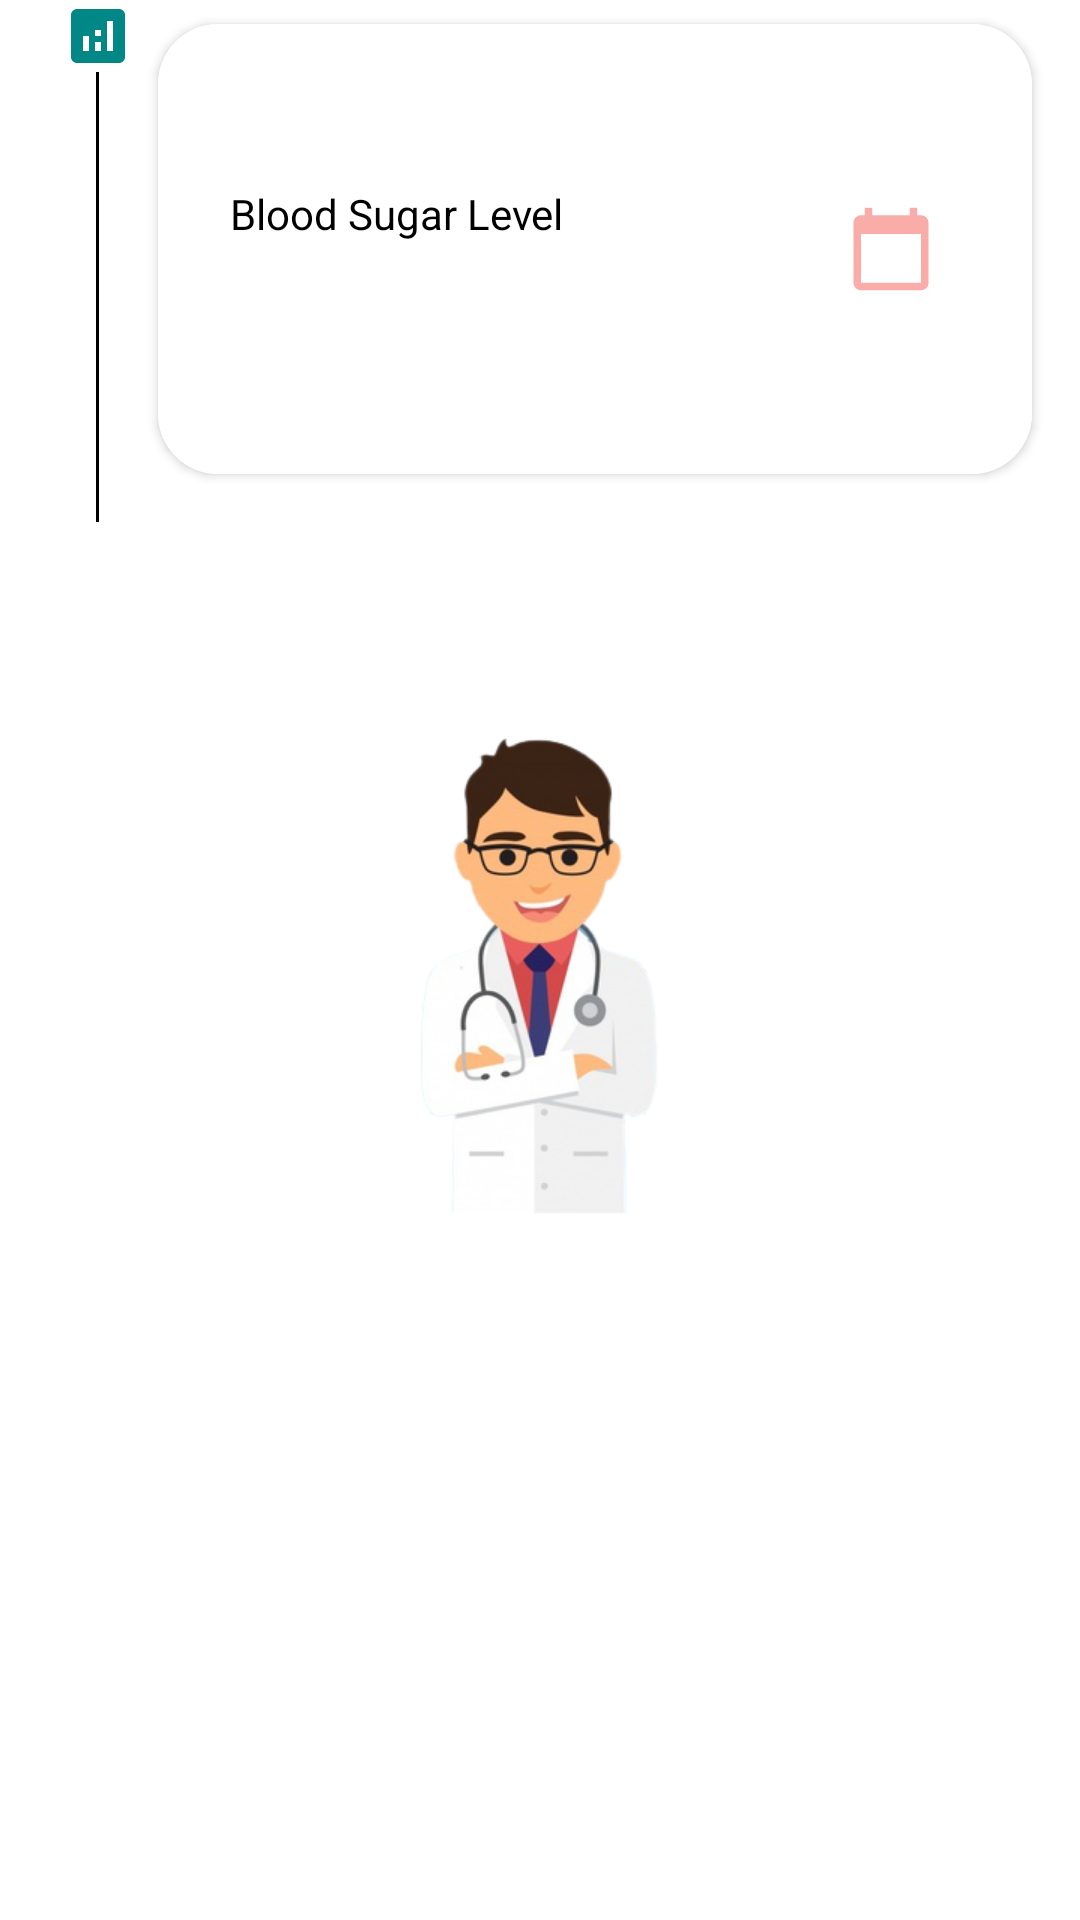

Where icons sit on this 1080px×1920px app screen, as [x1, y1, x2, y2]:
analytics: [71, 9, 125, 63]
calender: [853, 208, 929, 290]
